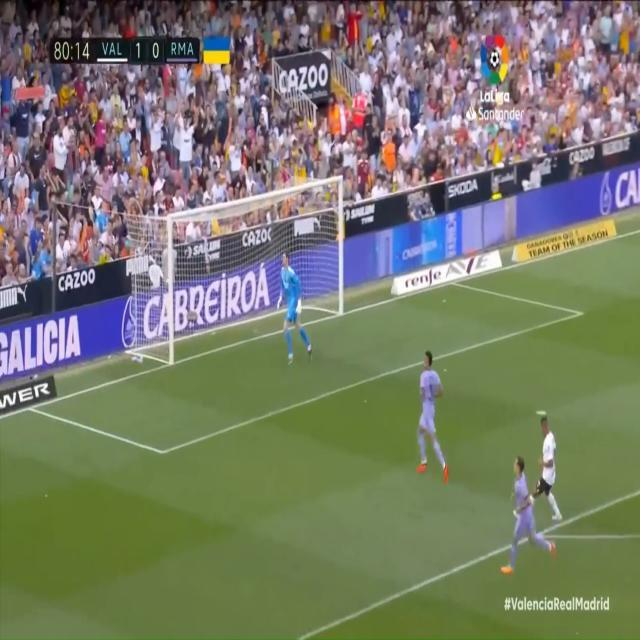goalkeeper: (275, 250, 314, 367)
player: (499, 452, 558, 569), (414, 340, 451, 482), (526, 414, 562, 527)
